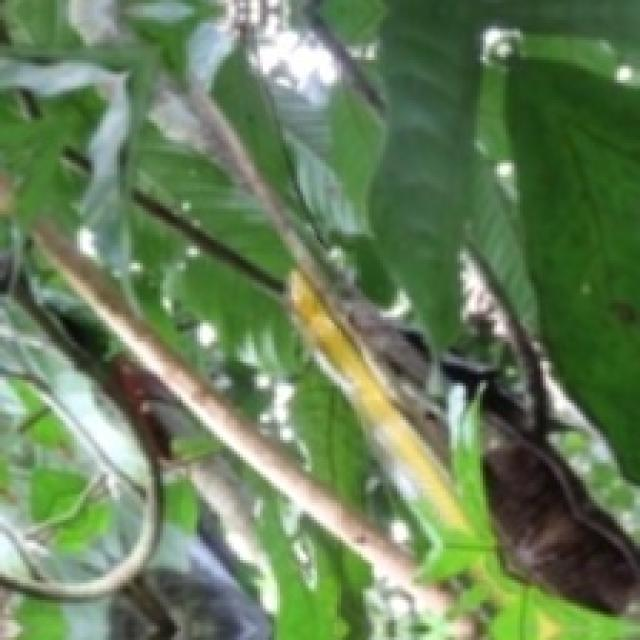red-tailed green ratsnake: (290, 270, 468, 532)
